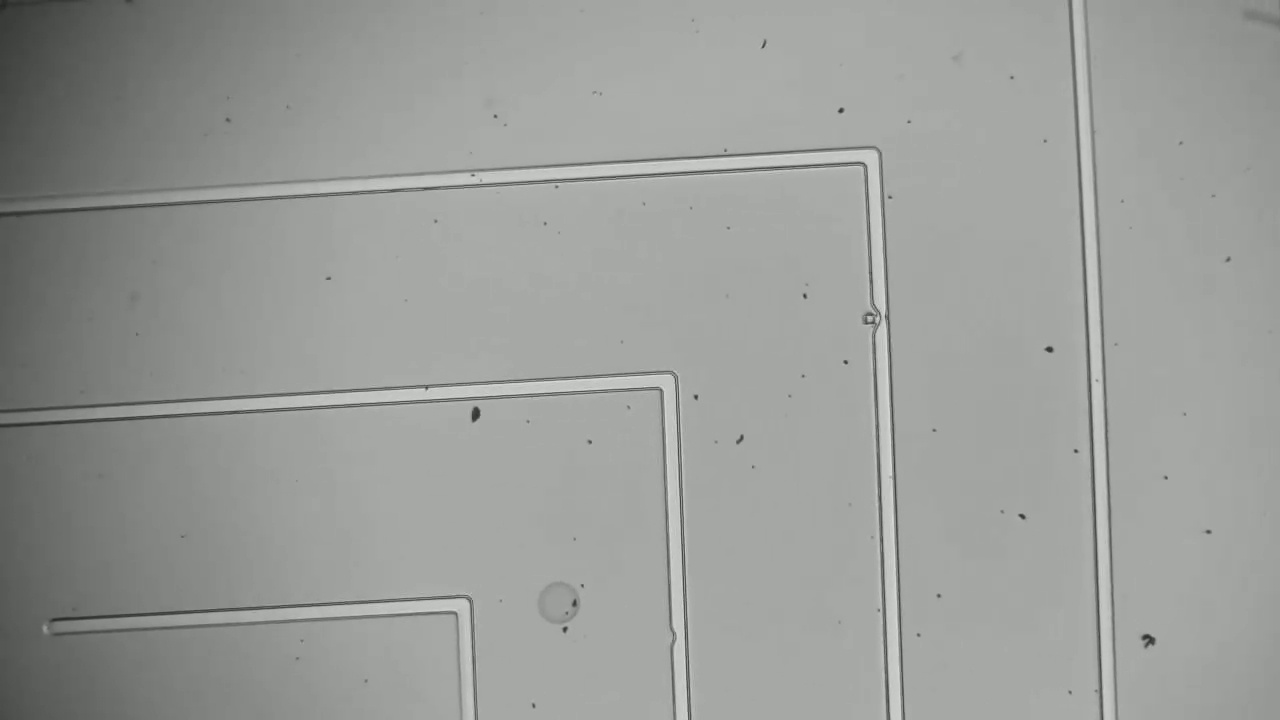edge_bite: (857, 291, 894, 343), (659, 618, 695, 655)
